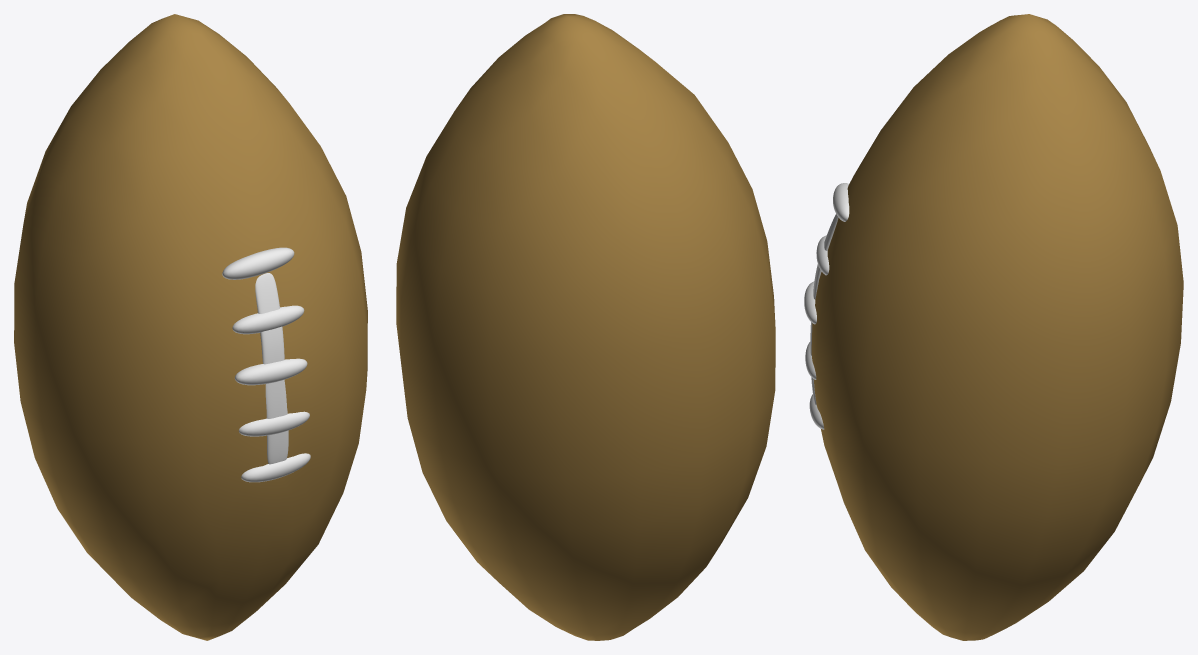
File: asas.fbx
3 renders of one model, left to right at view 1: azimuth 30°, elevation 25°; view 2: azimuth 150°, elevation 25°; view 3: azimuth 270°, elevation 25°, orthographic. The views are drawn at different scales.
Visible parts, largest first — view 1: geo_football, laces; view 2: geo_football; view 3: geo_football, laces.
Boxes of the visible parts, x1,y1,x2,y2 form: geo_football: [14, 14, 367, 640]; laces: [222, 247, 310, 482]; geo_football: [396, 14, 775, 640]; geo_football: [811, 14, 1183, 640]; laces: [804, 183, 849, 429].
Bounding box in the file's own units: 0.8266 × 1.54 × 0.8435.
